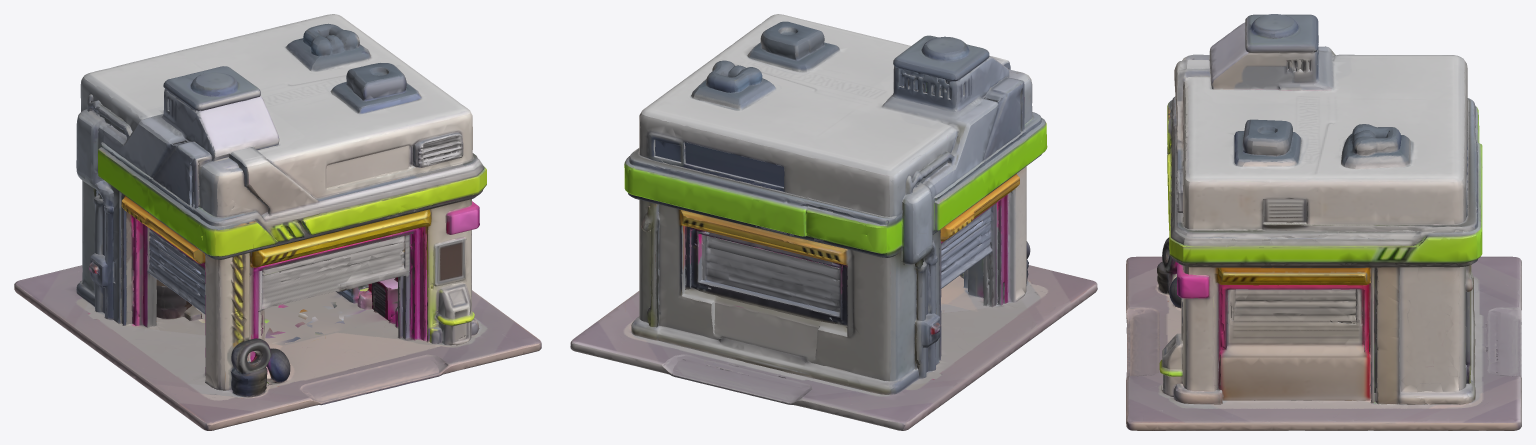
The model's file is u_bld_garage.glb.
The picture shows the model from 3 angles, left to right: view 1: azimuth 30°, elevation 25°; view 2: azimuth 150°, elevation 25°; view 3: azimuth 270°, elevation 25°; orthographic projection.
Visible parts, largest first — view 1: geometry_0; view 2: geometry_0; view 3: geometry_0.
Part boxes in pixels (x1,y1,x2,y2): geometry_0: (14,14,541,430); geometry_0: (570,14,1097,430); geometry_0: (1126,14,1521,430).
Size of the model in its own units: 0.3 by 0.2375 by 0.3.
Materials: 1 (1 with a texture image).
